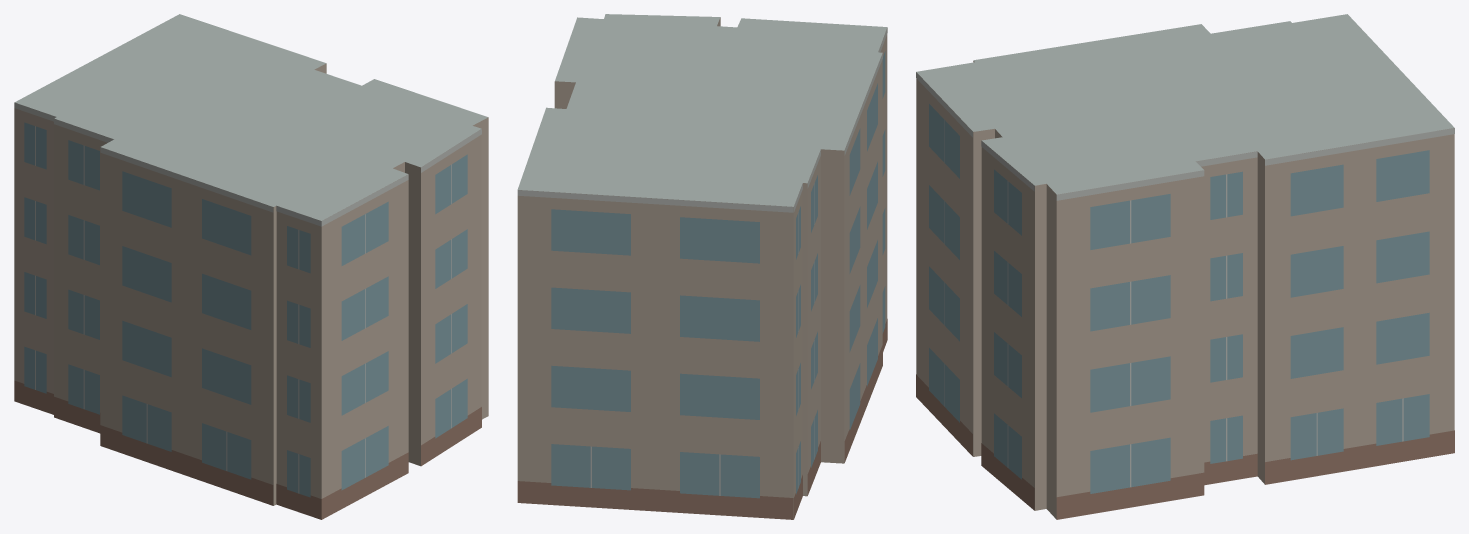
File: survey-upis-32658704.glb
The picture shows the model from 3 angles, left to right: view 1: azimuth 30°, elevation 25°; view 2: azimuth 150°, elevation 25°; view 3: azimuth 270°, elevation 25°; orthographic projection. The views are drawn at different scales.
Visible parts, largest first — view 1: survey-upis-32658704.tmp; view 2: survey-upis-32658704.tmp; view 3: survey-upis-32658704.tmp.
Boxes of the visible parts, <box> form: survey-upis-32658704.tmp: <box>14,14,488,519</box>; survey-upis-32658704.tmp: <box>517,14,887,519</box>; survey-upis-32658704.tmp: <box>916,14,1454,519</box>.
Bounding box in the file's own units: 15.39 × 12.9 × 19.38.
